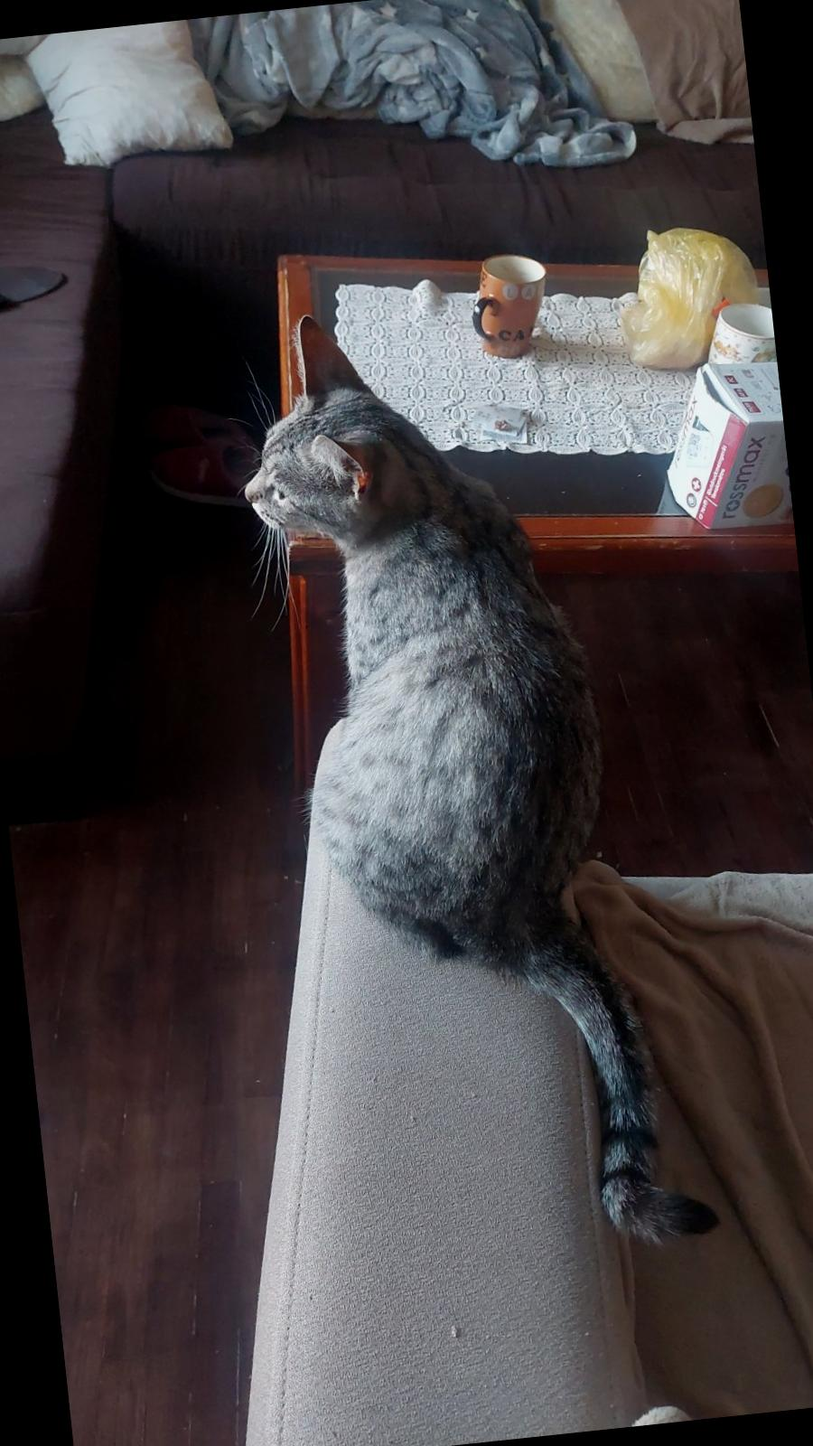macka: (220, 282, 721, 1284)
